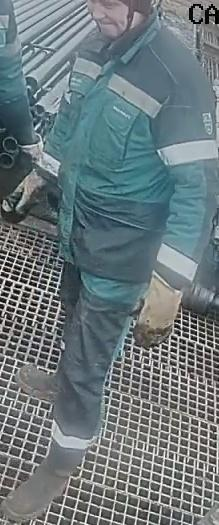gloves: (126, 270, 187, 347), (0, 162, 54, 226), (18, 129, 46, 164)
vest: (55, 33, 219, 271)
